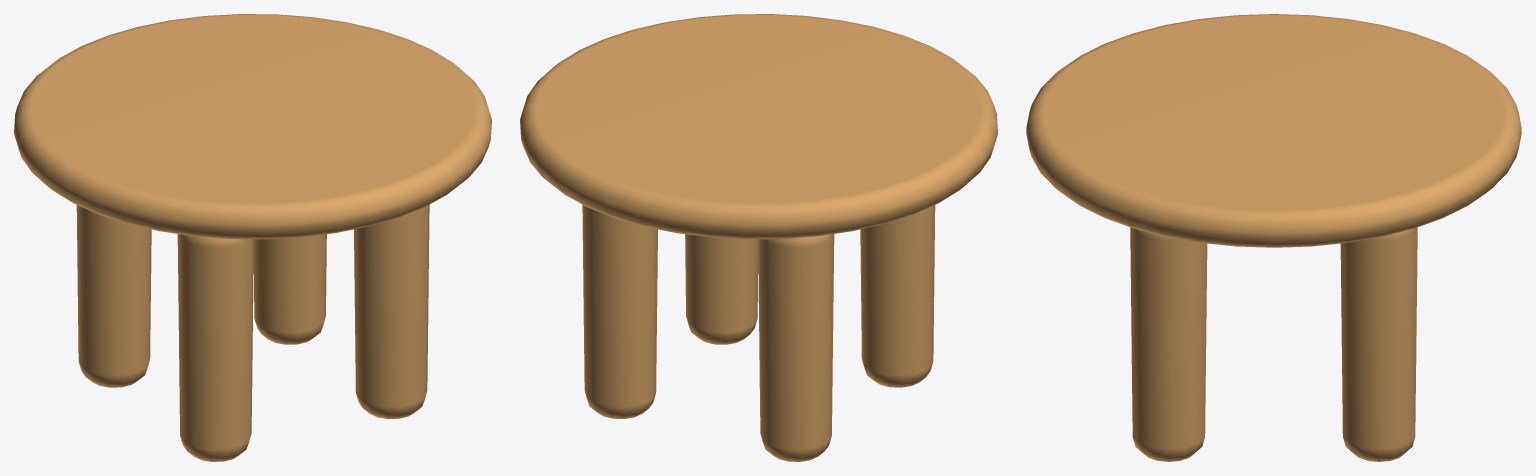
File: 02-round-table.glb
The picture shows the model from 3 angles, left to right: view 1: azimuth 30°, elevation 25°; view 2: azimuth 150°, elevation 25°; view 3: azimuth 270°, elevation 25°; orthographic projection. The views are drawn at different scales.
Parts seen in each view (by area): view 1: 02-round-table_mesh; view 2: 02-round-table_mesh; view 3: 02-round-table_mesh.
Boxes of the visible parts, left/top/right/bottom form: 02-round-table_mesh: left=14, top=14, right=491, bottom=461; 02-round-table_mesh: left=520, top=14, right=997, bottom=461; 02-round-table_mesh: left=1026, top=14, right=1521, bottom=461.
Bounding box in the file's own units: 1 × 0.66 × 1.
